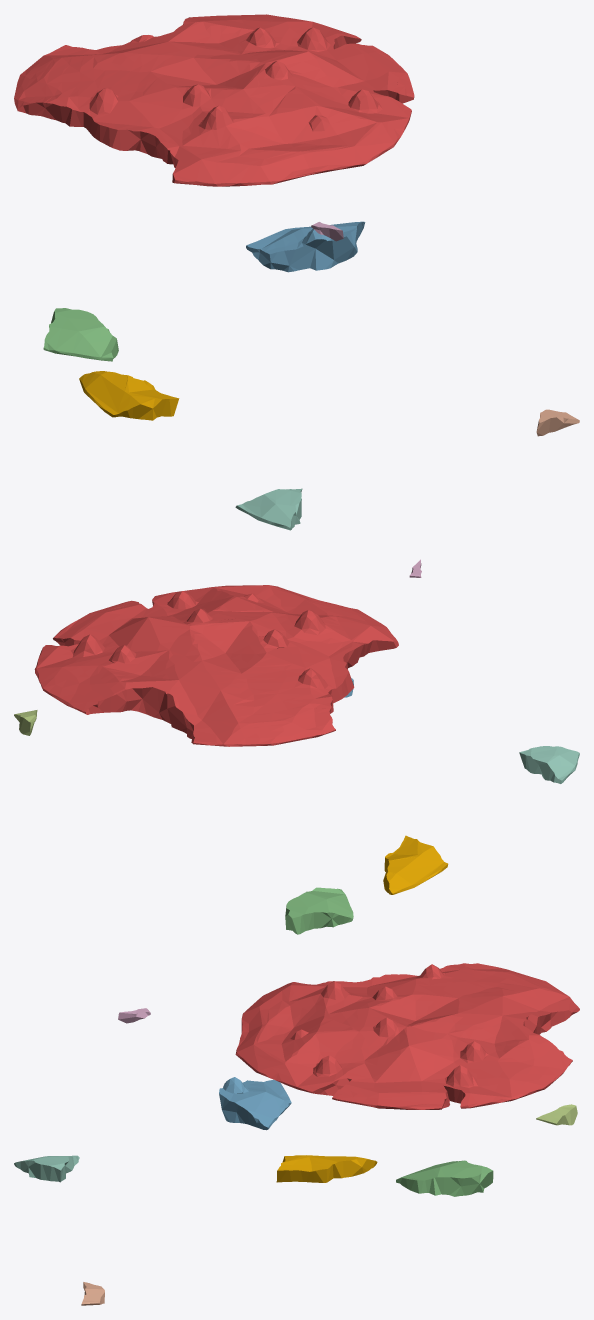
File: fractured_79_8pcs_transformed.glb
3 renders of one model, top to bottom at view 1: azimuth 30°, elevation 25°; view 2: azimuth 150°, elevation 25°; view 3: azimuth 270°, elevation 25°, orthographic. The views are drawn at different scales.
Visible parts, largest first — view 1: piece_1.obj, piece_2.obj, piece_0.obj, piece_3.obj, piece_4.obj, piece_7.obj; view 2: piece_1.obj, piece_0.obj, piece_3.obj, piece_4.obj; view 3: piece_1.obj, piece_2.obj, piece_3.obj, piece_0.obj, piece_4.obj, piece_5.obj, piece_7.obj.
Boxes of the visible parts, x1,y1,x2,y2 form: piece_1.obj: (14, 14, 414, 186); piece_2.obj: (246, 221, 365, 272); piece_0.obj: (79, 371, 179, 420); piece_3.obj: (43, 308, 118, 361); piece_4.obj: (235, 488, 302, 530); piece_7.obj: (536, 409, 579, 436); piece_1.obj: (34, 585, 398, 746); piece_0.obj: (383, 835, 448, 894); piece_3.obj: (285, 887, 353, 934); piece_4.obj: (519, 746, 579, 783); piece_1.obj: (235, 963, 579, 1109); piece_2.obj: (219, 1077, 291, 1130); piece_3.obj: (396, 1160, 493, 1196); piece_0.obj: (276, 1155, 377, 1182); piece_4.obj: (14, 1155, 79, 1182); piece_5.obj: (536, 1104, 577, 1125); piece_7.obj: (81, 1282, 104, 1305).
Bounding box in the file's own units: 0.9812 × 0.7358 × 1.57.
